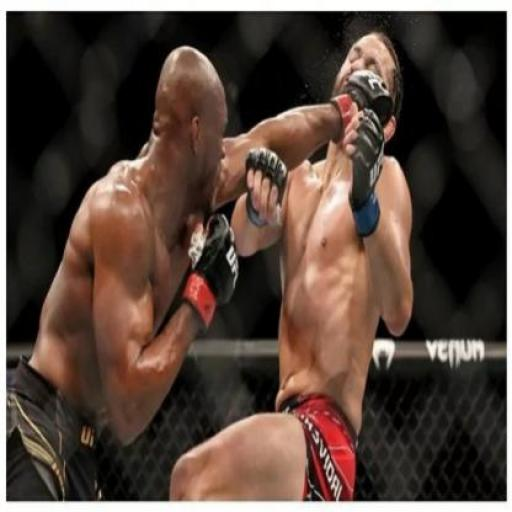Fighting: (8, 30, 415, 501)
